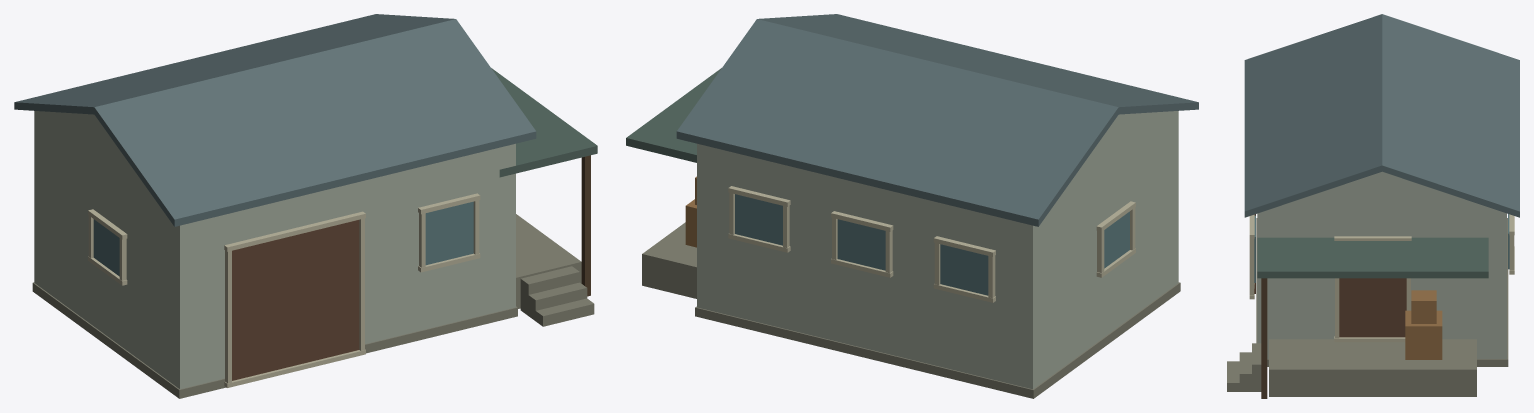
Rendered from Building_Settlement_ProduceDepot_001_LOD1.glb.
3 renders of one model, left to right at view 1: azimuth 30°, elevation 25°; view 2: azimuth 150°, elevation 25°; view 3: azimuth 270°, elevation 25°, orthographic. The views are drawn at different scales.
Parts seen in each view (by area): view 1: Building_Settlement_ProduceDepot_001_LOD1; view 2: Building_Settlement_ProduceDepot_001_LOD1; view 3: Building_Settlement_ProduceDepot_001_LOD1.
Boxes of the visible parts, x1=… form: Building_Settlement_ProduceDepot_001_LOD1: x1=14, y1=14, x2=597, y2=398; Building_Settlement_ProduceDepot_001_LOD1: x1=626, y1=14, x2=1198, y2=398; Building_Settlement_ProduceDepot_001_LOD1: x1=1227, y1=14, x2=1519, y2=398.
Size of the model in its own units: 9.22 by 4.93 by 6.33.
